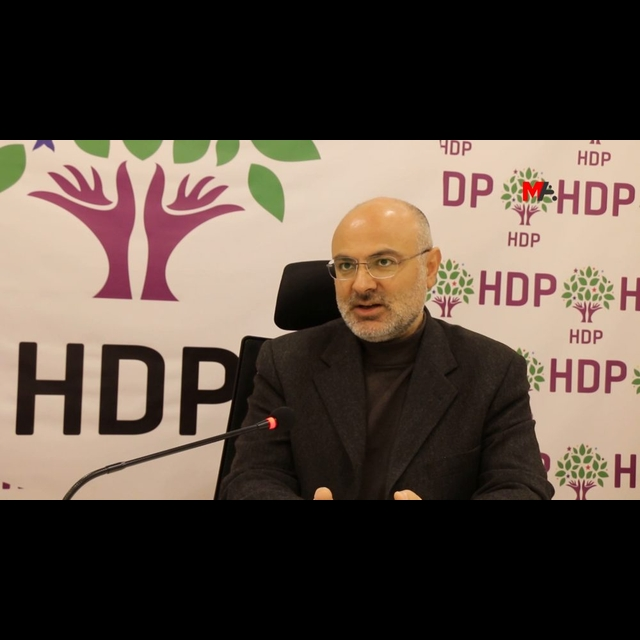HDP: (423, 249, 475, 318), (561, 263, 614, 324), (558, 441, 608, 500)
